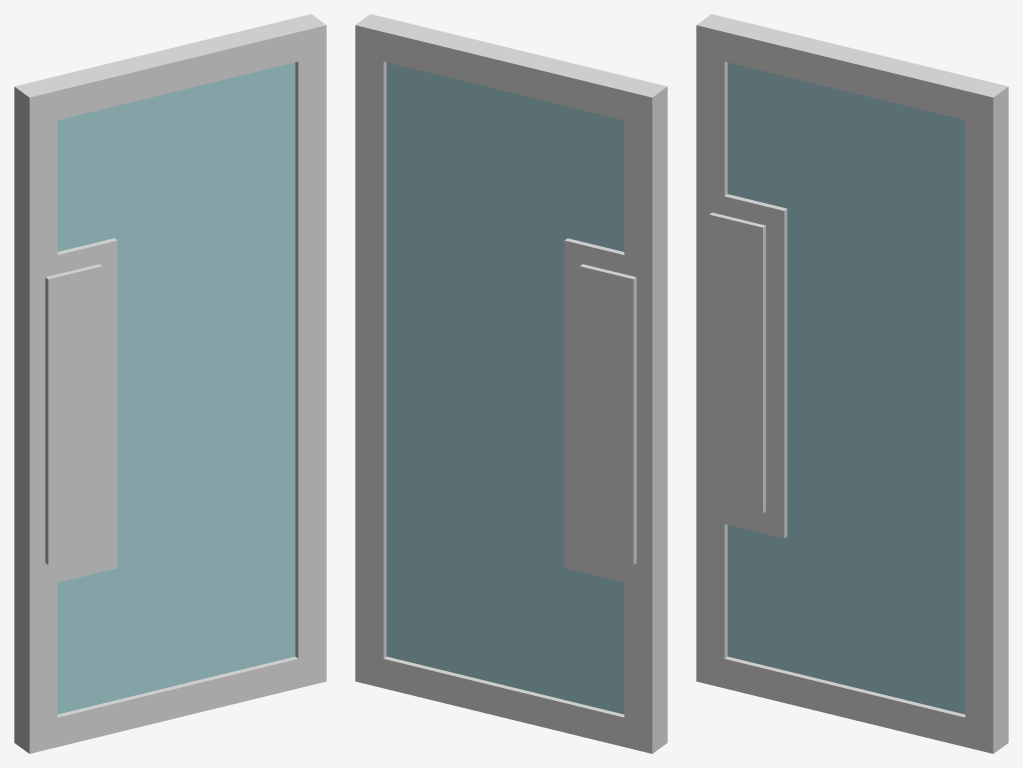
File: glass_door.fbx
The picture shows the model from 3 angles, left to right: view 1: azimuth 30°, elevation 25°; view 2: azimuth 150°, elevation 25°; view 3: azimuth 330°, elevation 25°; orthographic projection.
Visible parts, largest first — view 1: office_door_low; view 2: office_door_low; view 3: office_door_low.
Boxes of the visible parts, left/top/right/bottom form: office_door_low: left=14, top=14, right=326, bottom=753; office_door_low: left=355, top=14, right=667, bottom=753; office_door_low: left=696, top=14, right=1008, bottom=753.
Size of the model in its own units: 0.9 by 1.9 by 0.1105.
